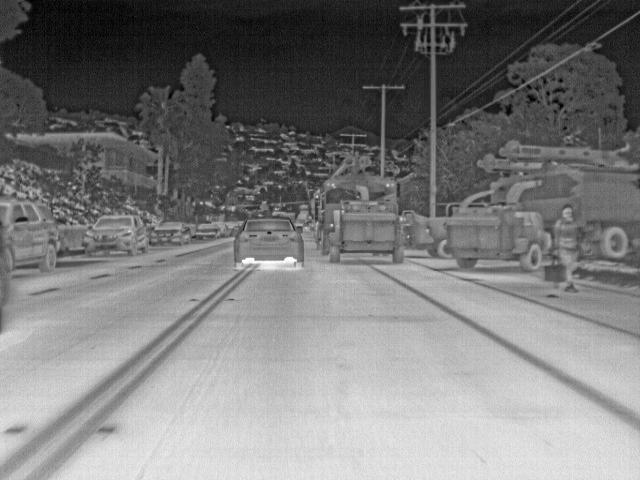car: (0, 196, 62, 273), (232, 216, 306, 270), (82, 213, 147, 256), (153, 220, 191, 246), (194, 222, 218, 239), (218, 221, 230, 238), (305, 220, 318, 234), (229, 223, 241, 234), (294, 222, 304, 233)
person: (553, 204, 583, 294)
